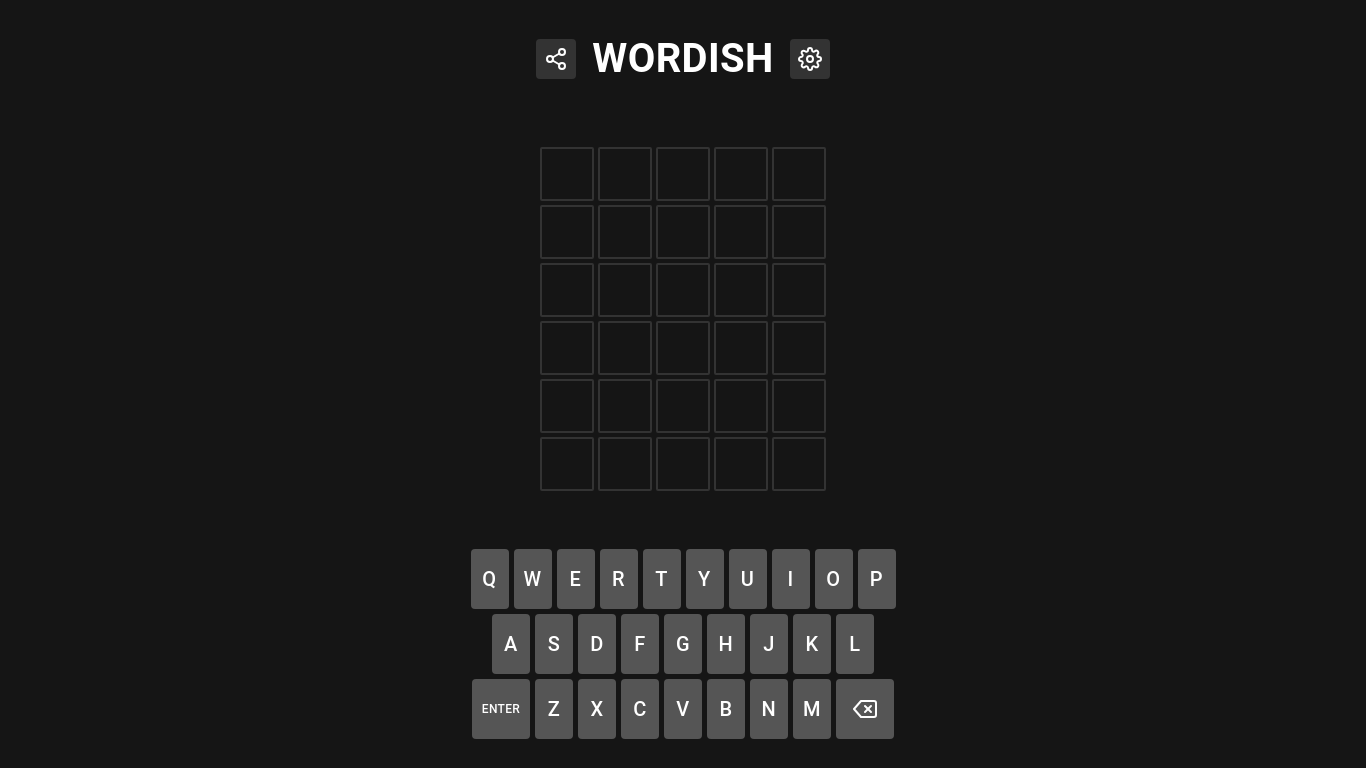
Test: Wordish › Main app behaviors › should load a specific solution when given a valid p query parameter in the url
The image size is (1366, 768).
Type "smell" into the text box at point(683, 384), box [0, 0, 1365, 767]
Then press Enter
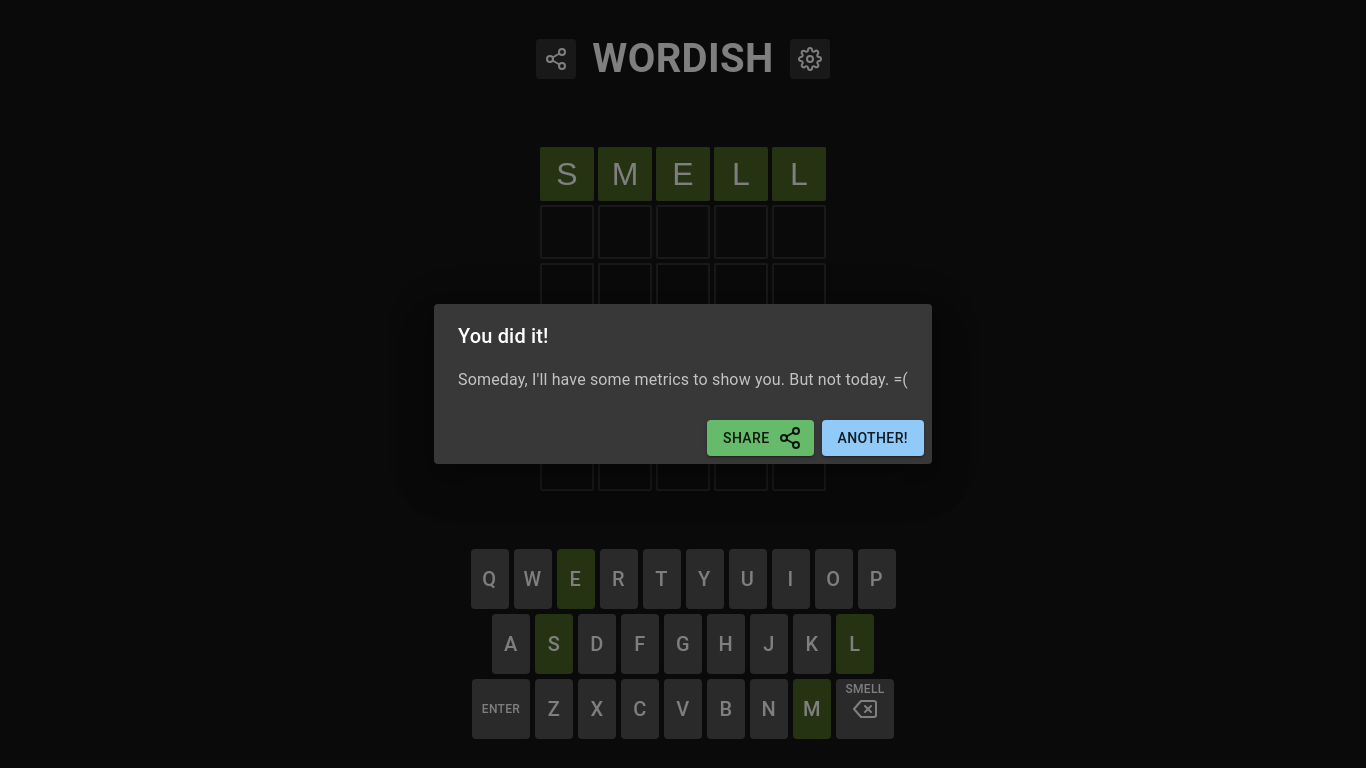
Result: the button "Share" is shown at [707, 420, 814, 456]
Result: the heading "You did it!" is shown at [458, 324, 548, 348]
